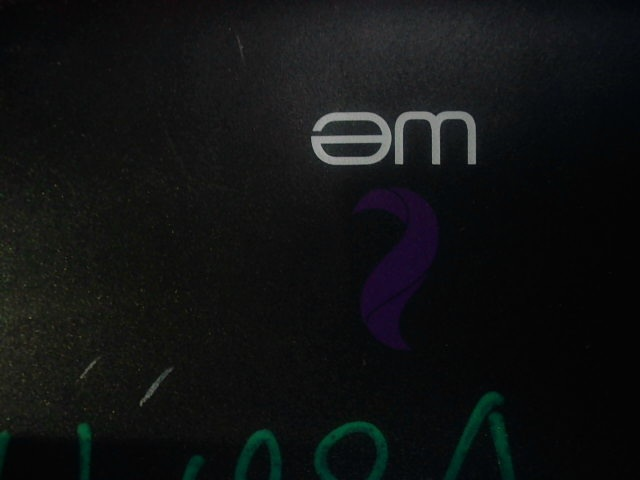AT_We: (299, 107, 489, 356)
